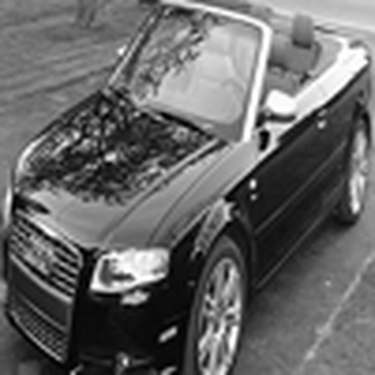car: (1, 1, 370, 373)
